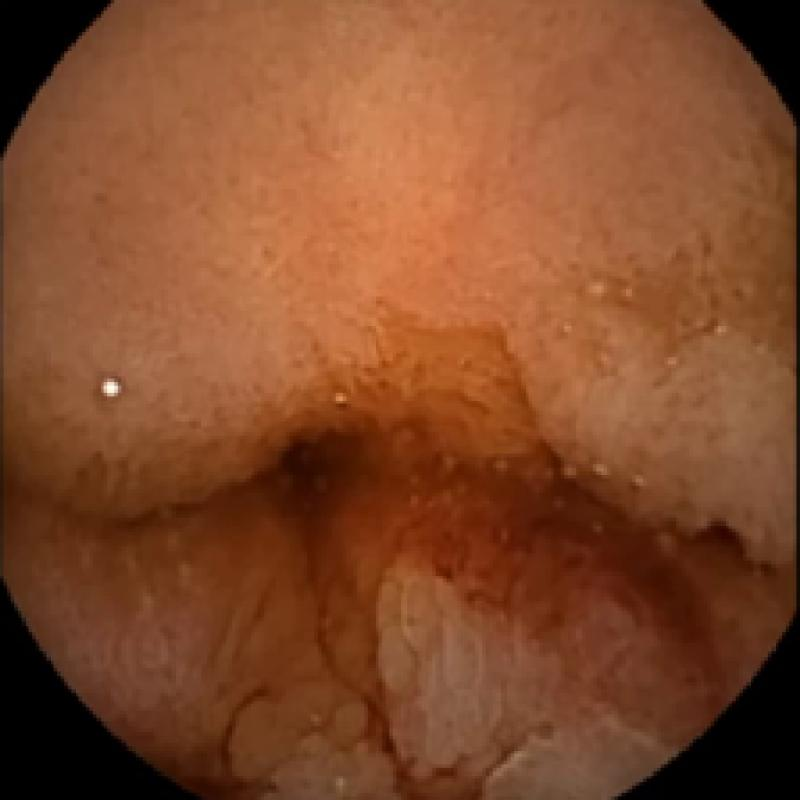bleeding: (211, 425, 786, 793)
